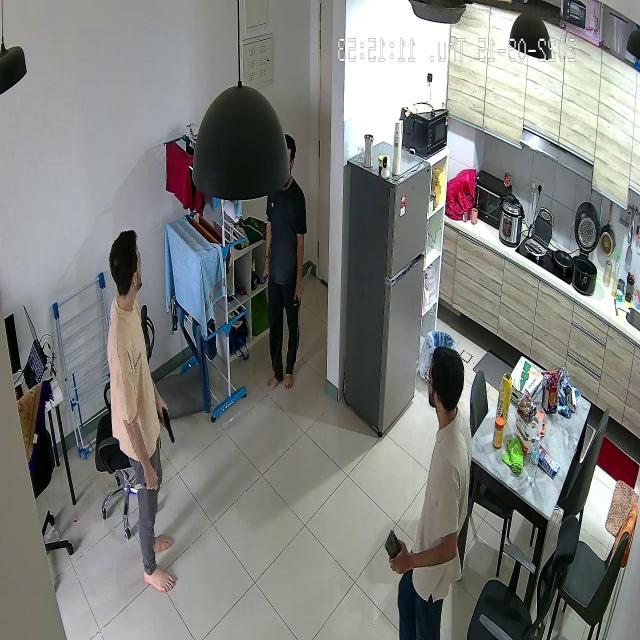Gun: (150, 395, 180, 445)
